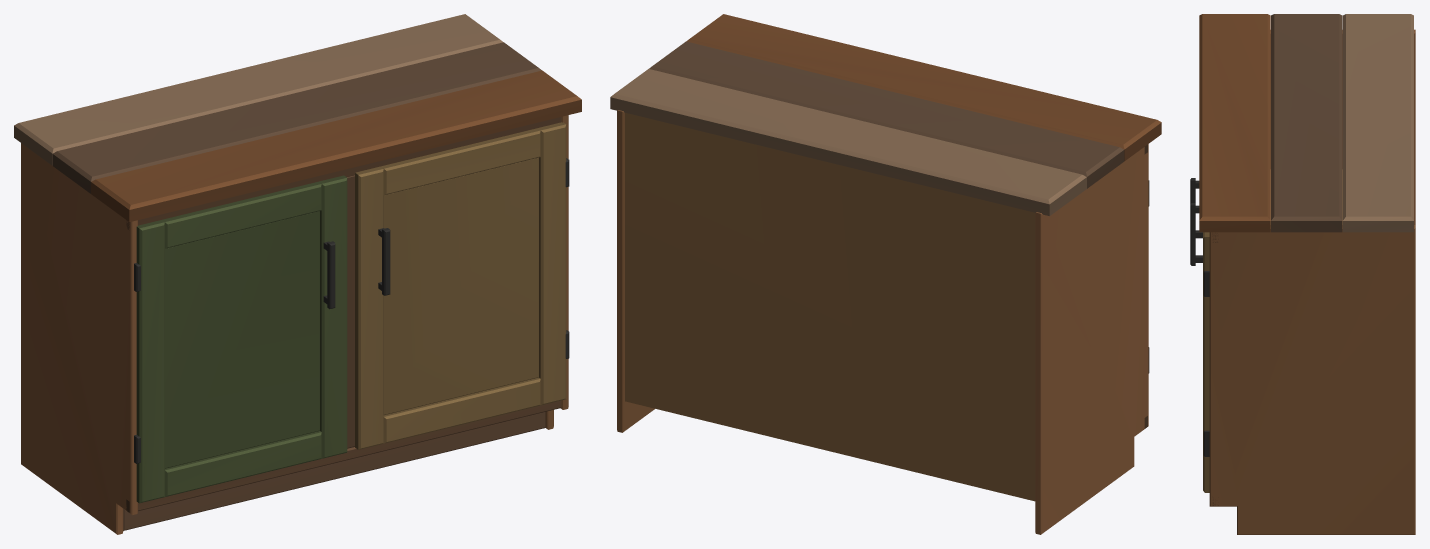
The model's file is kitchen_cabinet_01.glb.
The picture shows the model from 3 angles, left to right: view 1: azimuth 30°, elevation 25°; view 2: azimuth 150°, elevation 25°; view 3: azimuth 270°, elevation 25°; orthographic projection. The views are drawn at different scales.
Parts seen in each view (by area): view 1: kitchen_cabinet_01_body, door_right, door_left, door_left_hardware, door_right_hardware; view 2: kitchen_cabinet_01_body; view 3: kitchen_cabinet_01_body, door_right, door_right_hardware.
Boxes of the visible parts, box(x1,y1,x2,y2) form: kitchen_cabinet_01_body: box(14, 14, 581, 534); door_right: box(355, 122, 566, 449); door_left: box(136, 175, 347, 503); door_left_hardware: box(134, 241, 335, 463); door_right_hardware: box(378, 158, 569, 358); kitchen_cabinet_01_body: box(610, 14, 1161, 534); kitchen_cabinet_01_body: box(1199, 14, 1415, 534); door_right: box(1203, 232, 1209, 492); door_right_hardware: box(1190, 203, 1209, 456).
Bounding box in the file's own units: 1.24 × 0.903 × 0.575.
